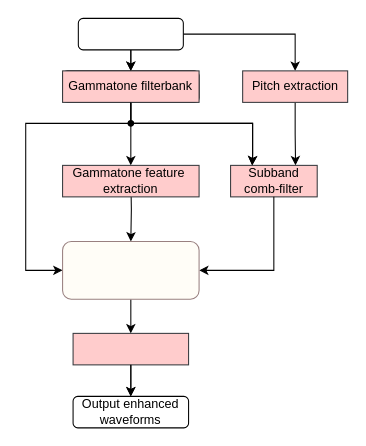
Some shapes in this 366 by 446 pixel diagram are drawn without their labels. The box of each missing label's shape, as (x1, y1, x2, y2) in pixels:
C-ED model based unvoice & voice speech processing: (62, 240, 199, 299)
Input noisy waveforms: (77, 17, 183, 50)
Inverse filterbank: (72, 332, 189, 365)
